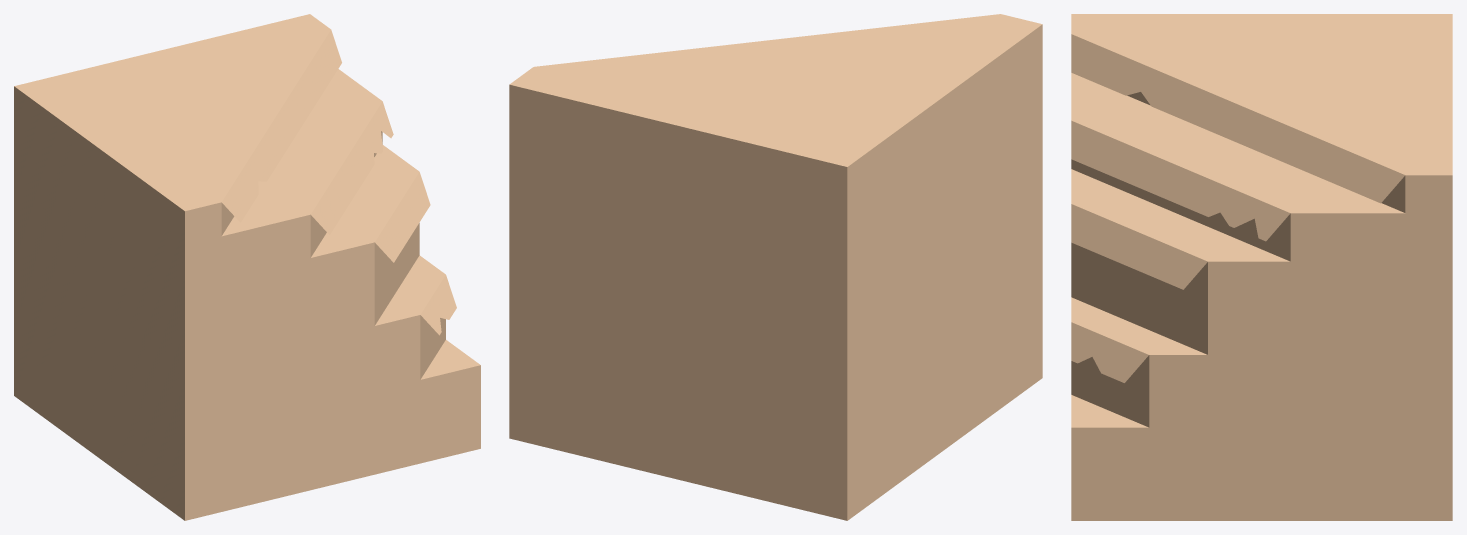
File: cliffBrown_stepsCornerInner.fbx
The picture shows the model from 3 angles, left to right: view 1: azimuth 30°, elevation 25°; view 2: azimuth 150°, elevation 25°; view 3: azimuth 270°, elevation 25°; orthographic projection. The views are drawn at different scales.
Visible parts, largest first — view 1: cliffBrown_stepsCornerInner; view 2: cliffBrown_stepsCornerInner; view 3: cliffBrown_stepsCornerInner.
Part boxes in pixels (x1,y1,x2,y2): cliffBrown_stepsCornerInner: (14,14,480,520); cliffBrown_stepsCornerInner: (509,14,1042,520); cliffBrown_stepsCornerInner: (1071,14,1452,520).
Bounding box in the file's own units: 300 × 300 × 300.
